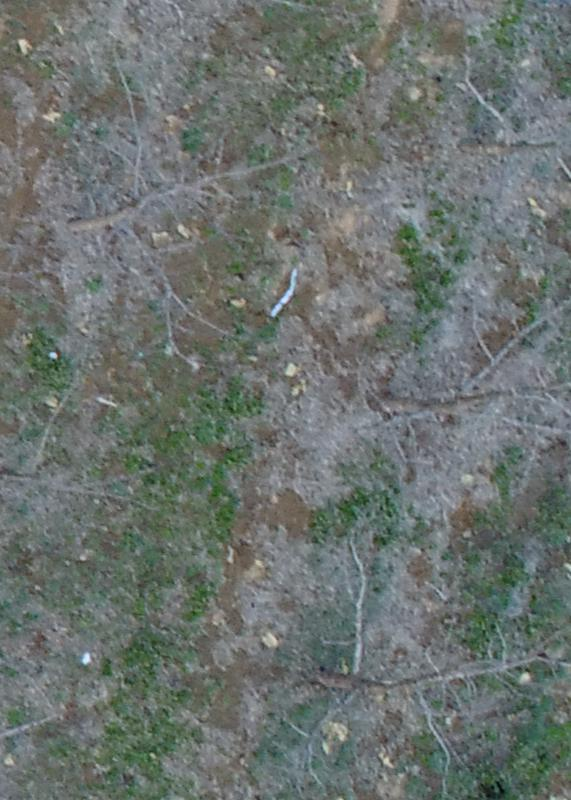apple: (286, 524, 561, 790), (57, 70, 306, 293), (355, 272, 561, 463)
